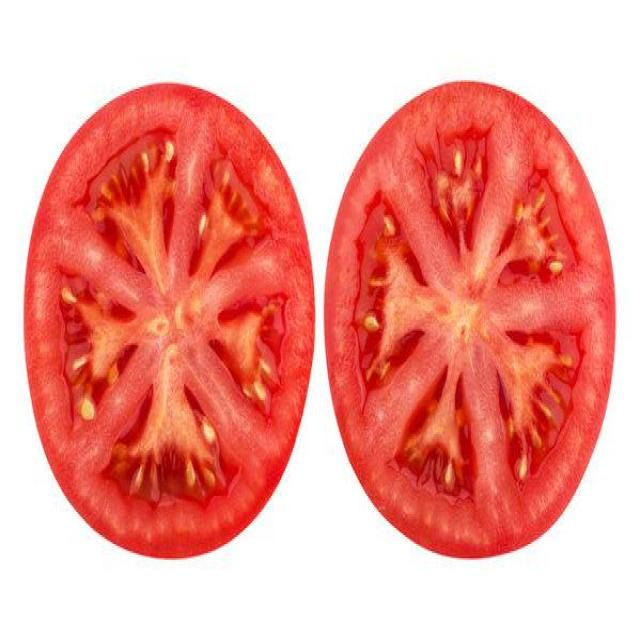Tomato: (24, 78, 319, 565), (325, 82, 616, 572)
